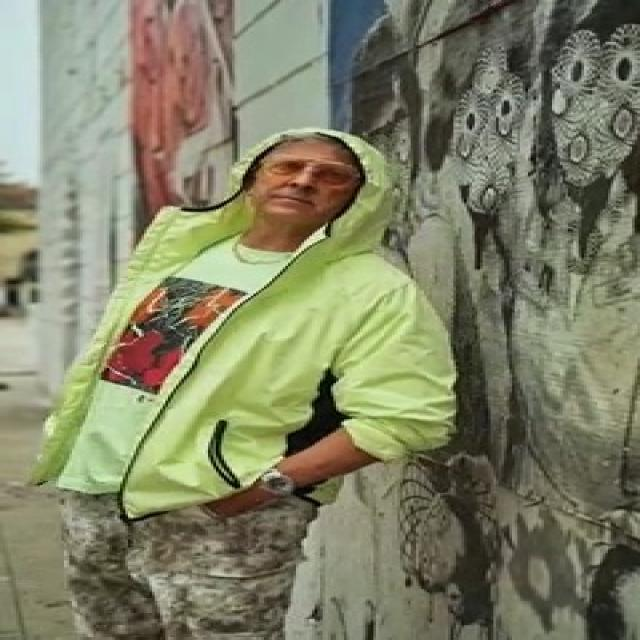Jacket_Wearer: (73, 222, 505, 521)
Person: (98, 110, 470, 640)
